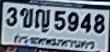letters: (35, 7, 51, 33), (19, 7, 34, 29), (53, 9, 66, 32), (5, 6, 18, 28), (67, 11, 80, 33), (93, 13, 106, 35), (80, 12, 92, 34)
province: (13, 33, 95, 50)
